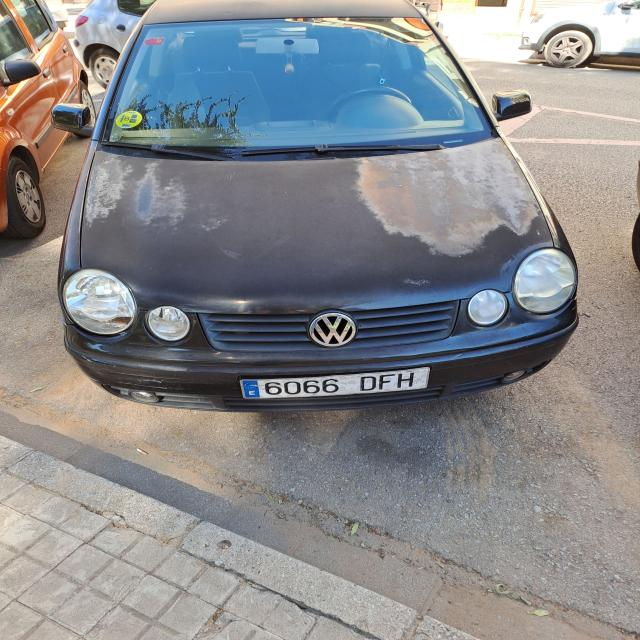license_plate-34Td: (240, 367, 430, 399)
